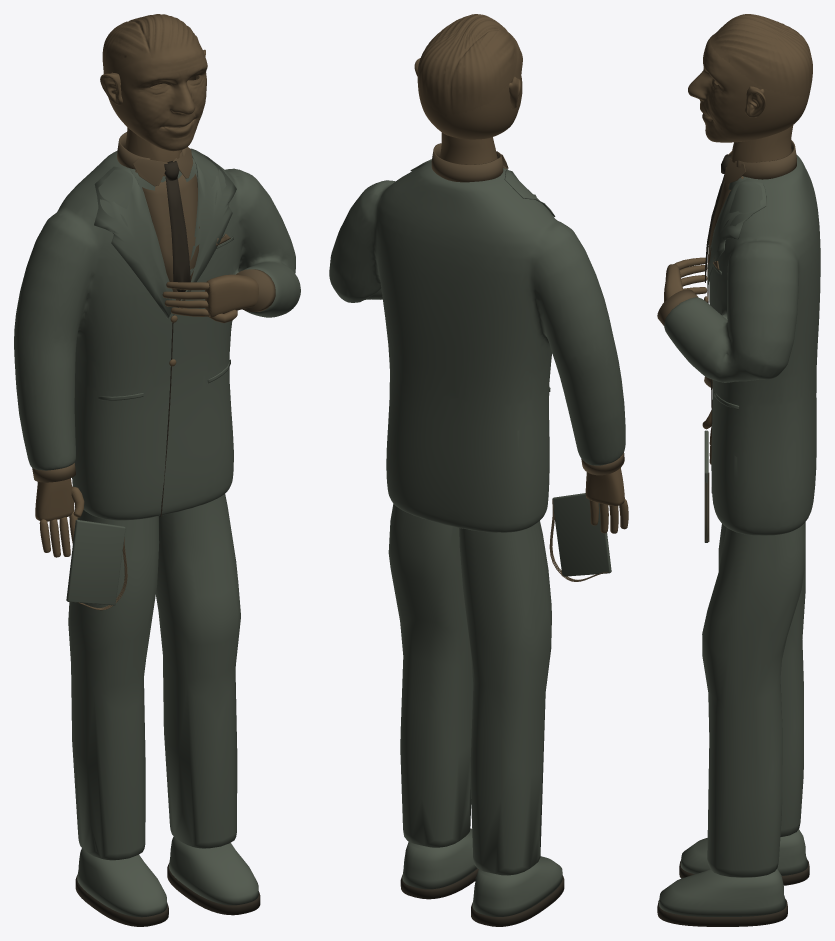
File: kiesinger-statue.glb
3 views of the same model, side by side, from view 1: azimuth 30°, elevation 25°; view 2: azimuth 150°, elevation 25°; view 3: azimuth 270°, elevation 25° (orthographic).
Parts seen in each view (by area): view 1: Bronze with green patina — game mesh, Warm weathered bronze — game mesh, Combed bronze hair — game mesh, Oxidized bronze recesses — game mesh; view 2: Bronze with green patina — game mesh, Warm weathered bronze — game mesh, Combed bronze hair — game mesh, Oxidized bronze recesses — game mesh; view 3: Bronze with green patina — game mesh, Warm weathered bronze — game mesh, Combed bronze hair — game mesh, Oxidized bronze recesses — game mesh.
Boxes of the visible parts, x1,y1,x2,y2 form: Bronze with green patina — game mesh: (14, 148, 300, 917); Warm weathered bronze — game mesh: (35, 14, 258, 557); Combed bronze hair — game mesh: (32, 132, 275, 610); Oxidized bronze recesses — game mesh: (75, 161, 260, 926); Bronze with green patina — game mesh: (329, 159, 625, 916); Warm weathered bronze — game mesh: (414, 14, 628, 533); Combed bronze hair — game mesh: (431, 143, 624, 581); Oxidized bronze recesses — game mesh: (400, 869, 564, 926); Bronze with green patina — game mesh: (659, 154, 820, 916); Warm weathered bronze — game mesh: (662, 14, 812, 464); Combed bronze hair — game mesh: (657, 140, 796, 541); Oxidized bronze recesses — game mesh: (657, 80, 809, 926).
Bounding box in the file's own units: 2 × 6 × 1.01.
